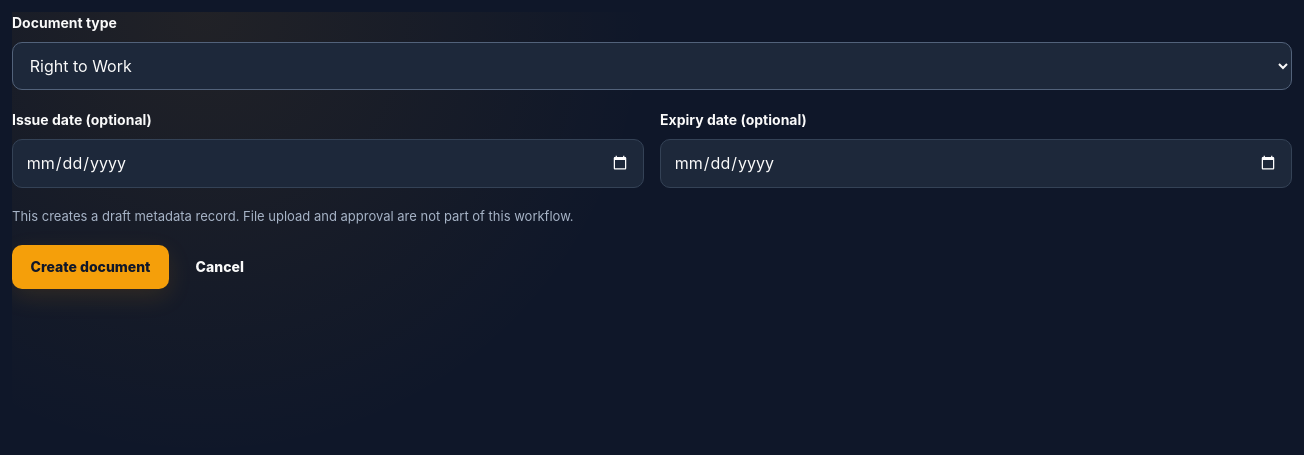
Test: ComplianceDocumentForm › associates invalid date order with the expiry field
This screenshot has width=1304, height=455.
Type "2027-08-01" into the date field labelled "Issue date (optional)" at {"x": 328, "y": 163}, box 12,139 -> 644,188
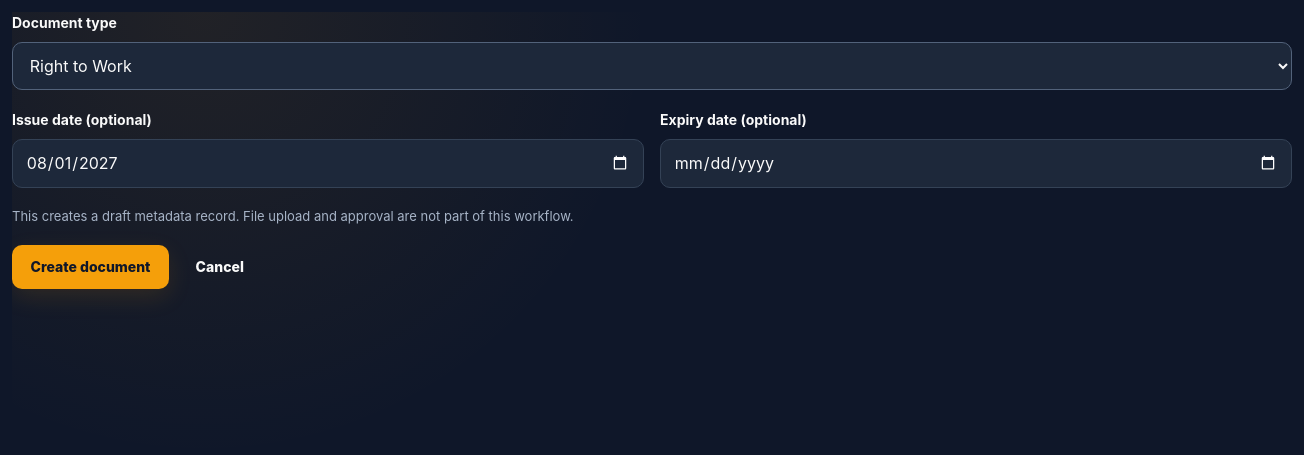
Type "2026-08-01" into the date field labelled "Expiry date (optional)" at {"x": 976, "y": 163}, box 660,139 -> 1292,188
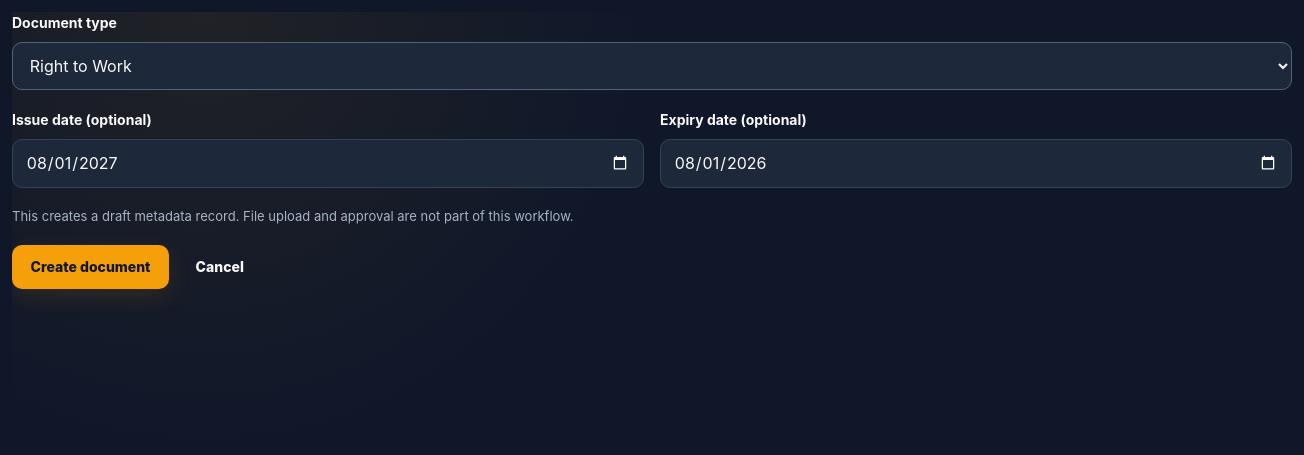
Submit the form named "Create document", box 12,12 -> 1292,289
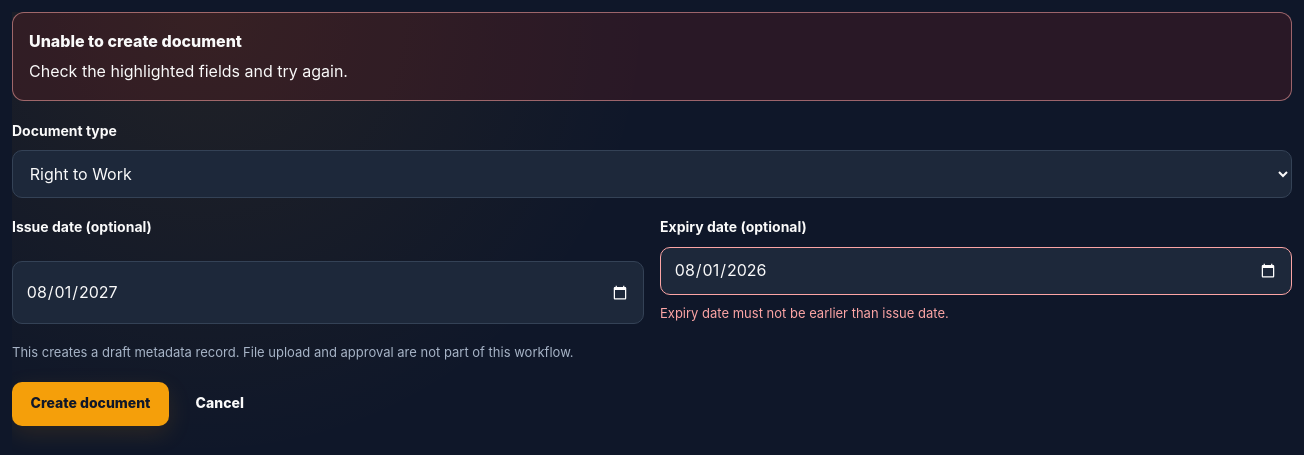
Now the text "Expiry date must not be earlier than issue date." is shown, box 660,305 -> 949,321
